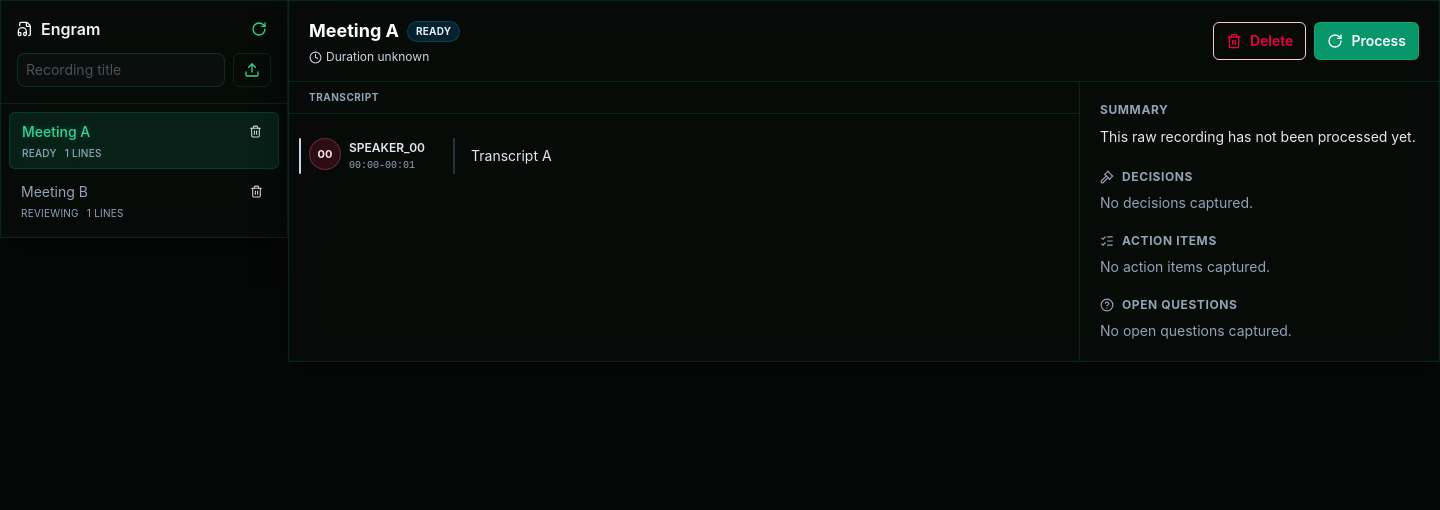
Scenario: does not apply a delayed process response to another meeting (failure=false)
Expected: the heading "Meeting A" is shown, [309, 17, 399, 45]
Click the button "Process" at (1367, 41), box [1314, 22, 1419, 60]
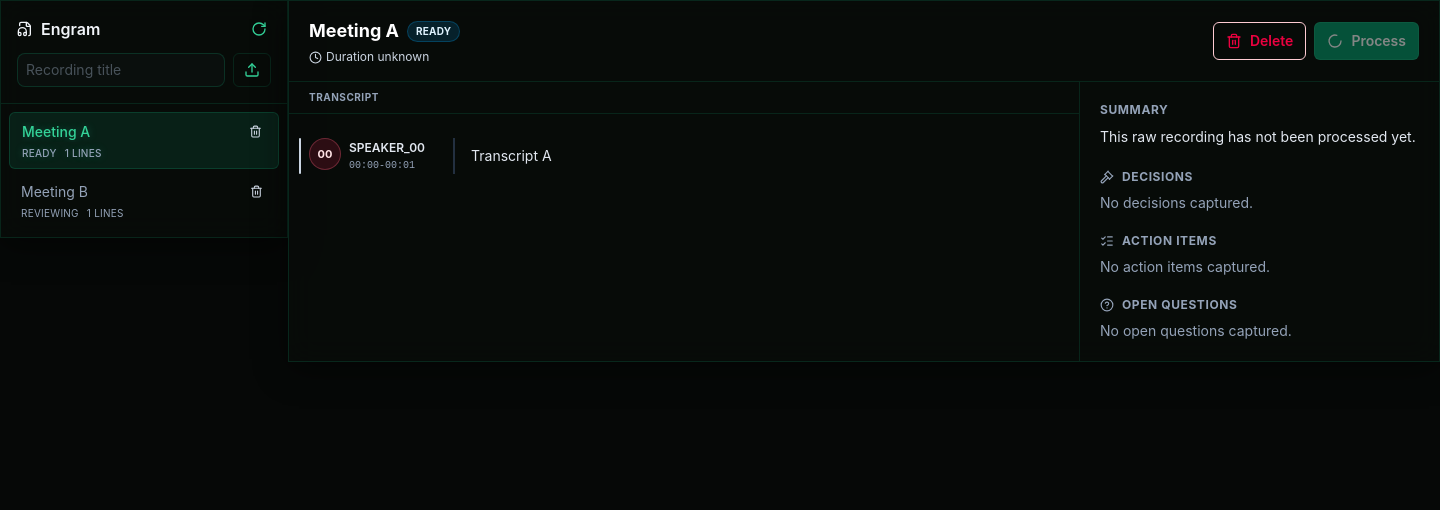
Click the button "Meeting B reviewing 1 lines" at (54, 191), box [9, 173, 279, 229]
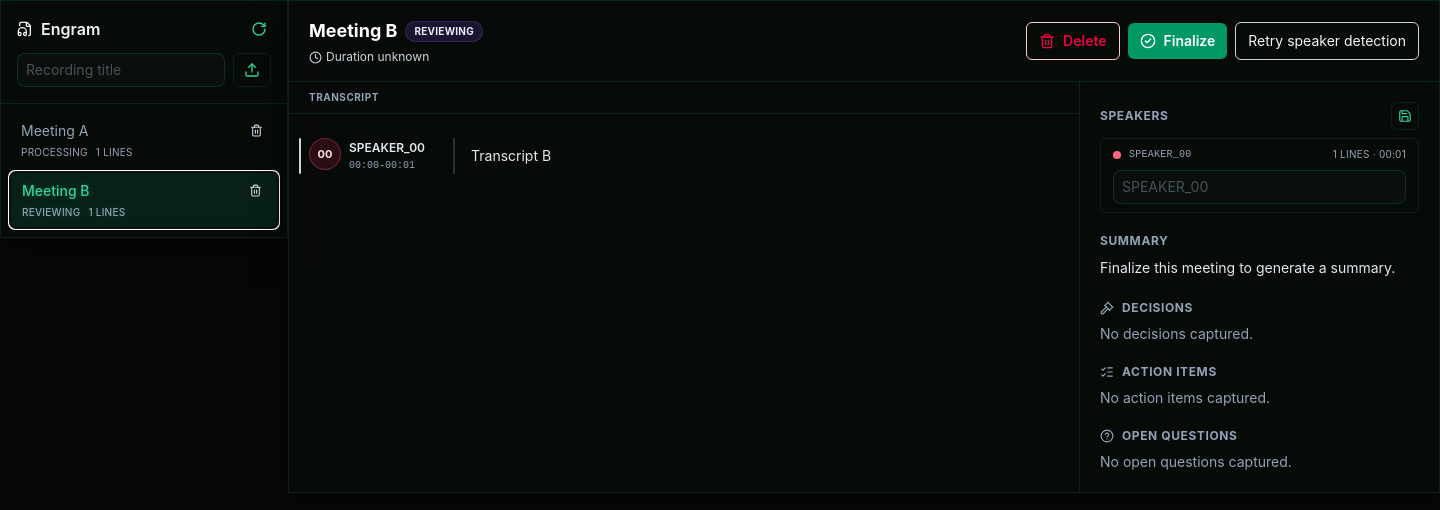
Now the heading "Meeting B" is shown, box [309, 17, 397, 45]
Now the text "Transcript B" is shown, box [471, 147, 551, 164]
